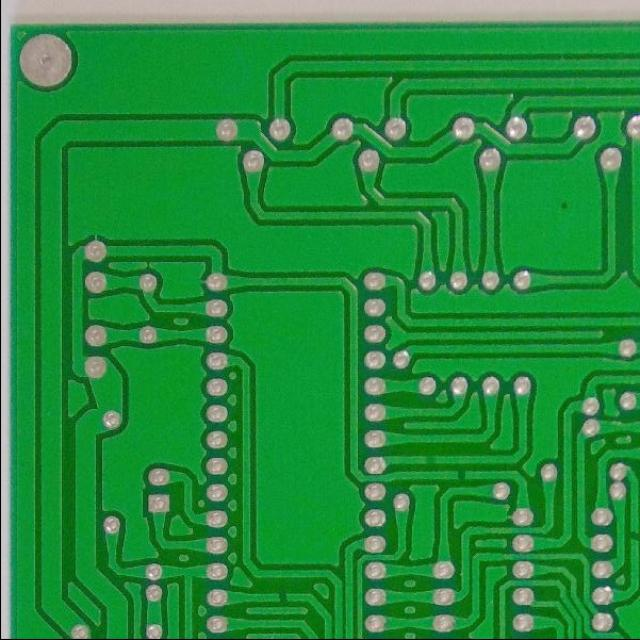Open_Circuit: (449, 462, 474, 485), (270, 586, 293, 605), (623, 522, 639, 549)
